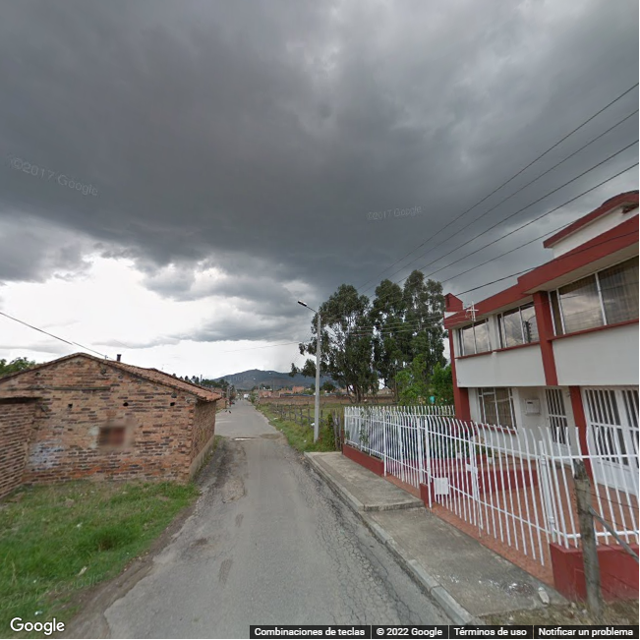D20: (321, 525, 411, 623)
